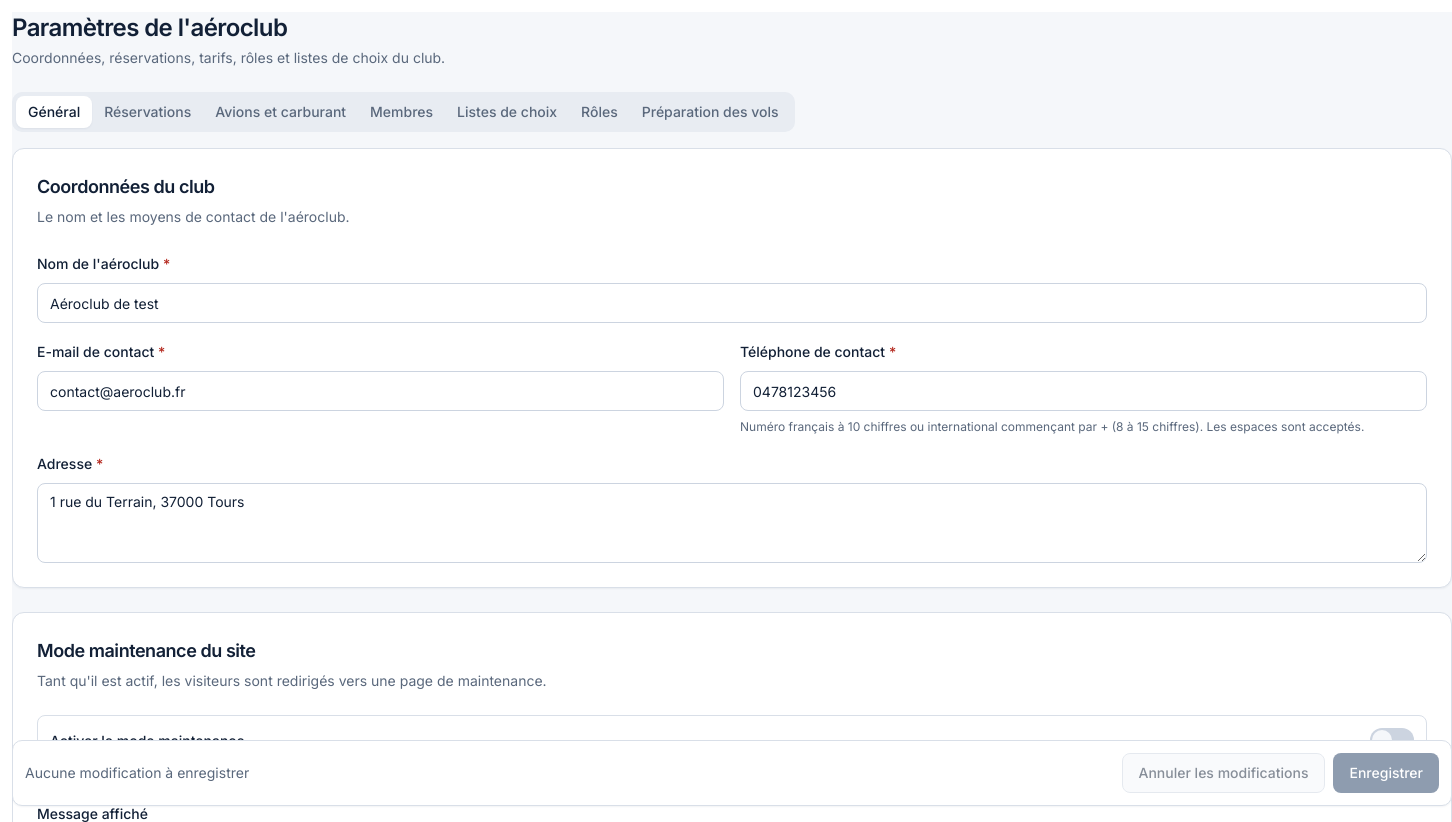
it: SettingsPage › annule les modifications non enregistrées
The image size is (1452, 822).
Type " bis" into the field labelled "Nom de l'aéroclub *".
click(732, 303); type(" bis")  # box x1=37 y1=283 x2=1427 y2=323
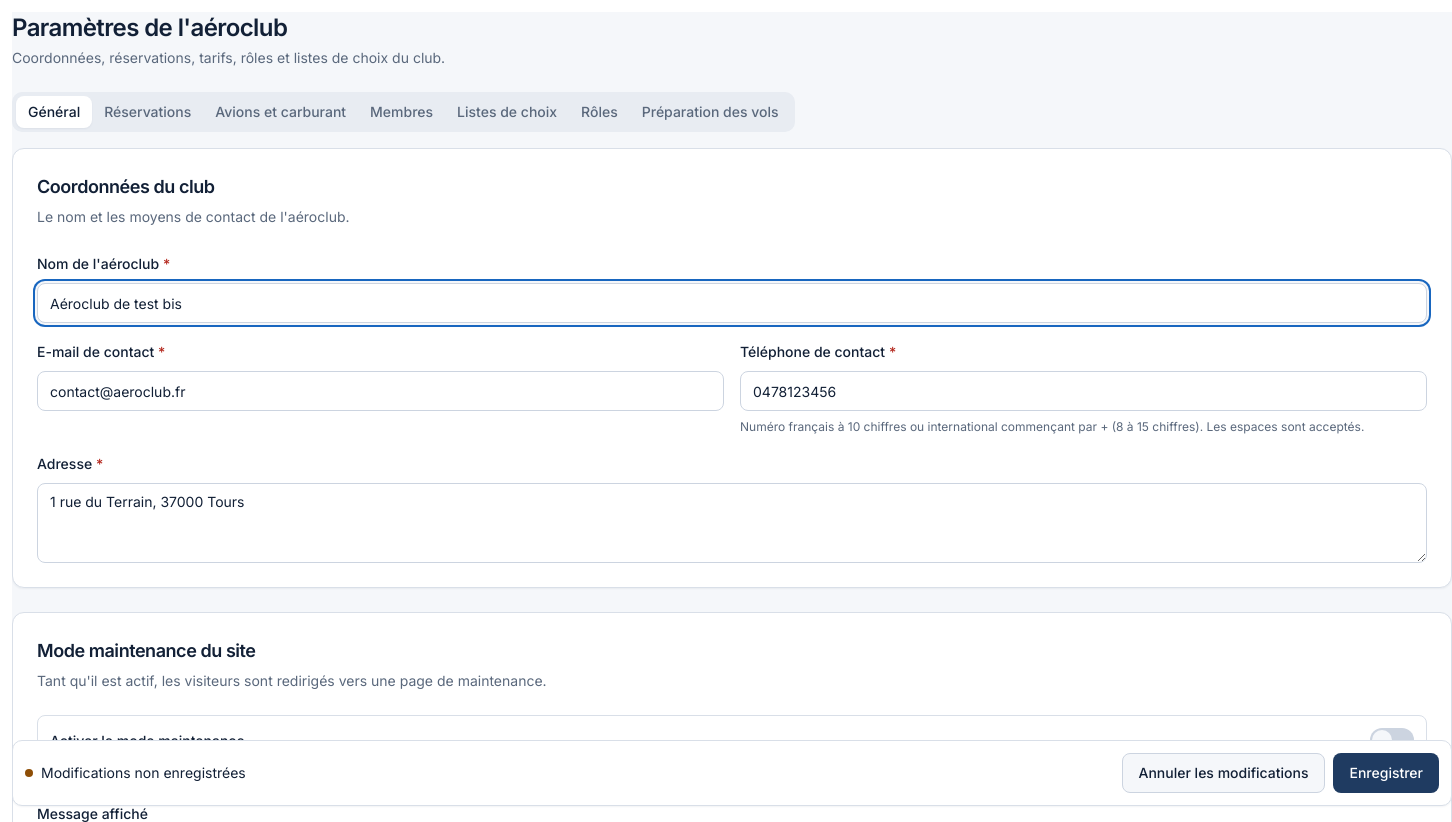
Click the button "Annuler les modifications".
click(1224, 773)  # box x1=1122 y1=753 x2=1326 y2=793
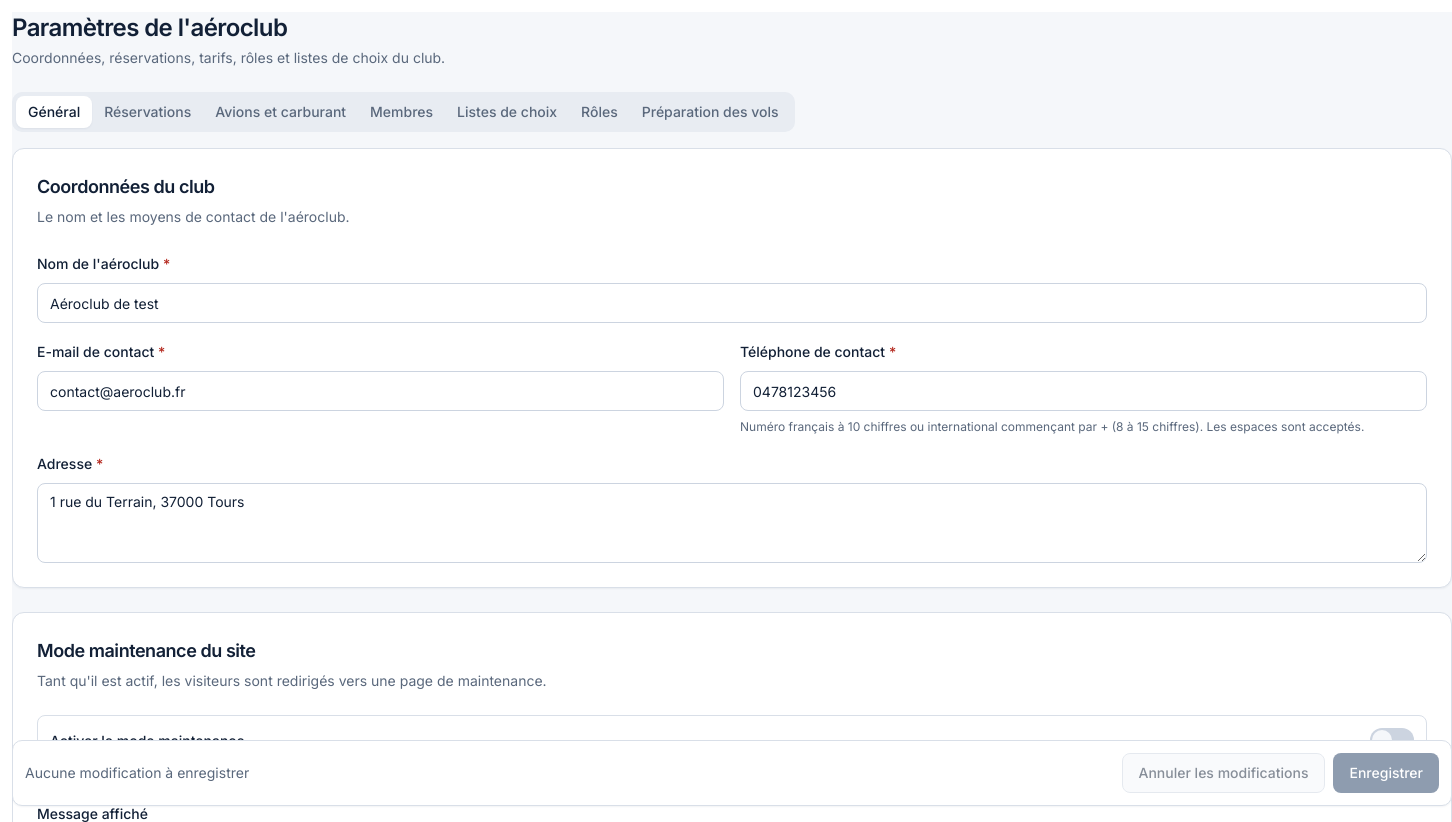
Expected: the field labelled "Nom de l'aéroclub *" holds "Aéroclub de test", x1=37 y1=283 x2=1427 y2=323
Expected: the button "Enregistrer" is disabled, x1=1334 y1=753 x2=1439 y2=793
